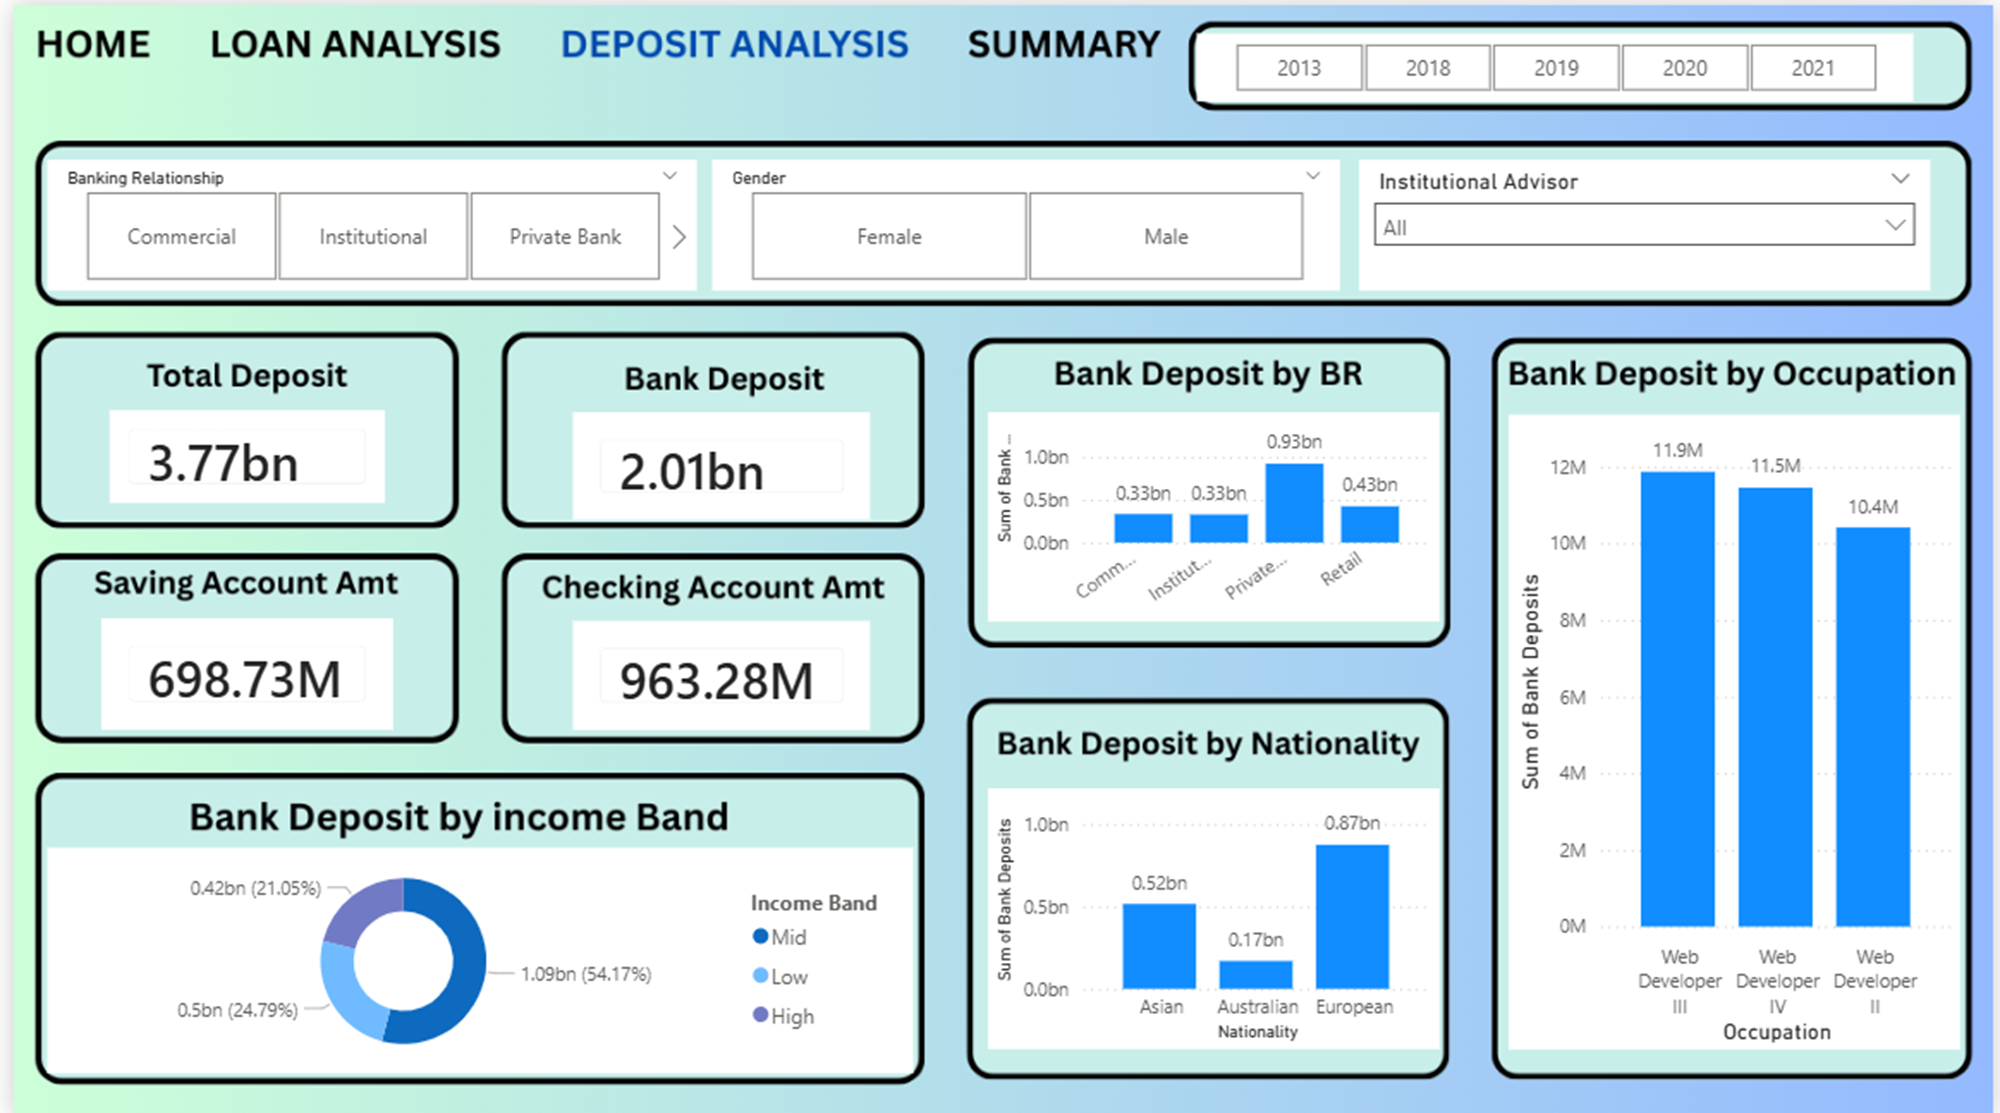

What the dashboard file says about the page in this screenshot:
{"tool":"powerbi","page":{"name":"Deposit Analysis","canvas":[1280,720],"ordinal":2},"visuals":[{"type":"slicer","fields":{"Values":["banking_case customers.year_of_joining2"]},"box":[764.5,17.9,463.6,43.9],"z":0},{"type":"actionButton","box":[0,0,100,39.6],"z":1000},{"type":"actionButton","box":[609.4,0,137.7,39.6],"z":3000},{"type":"cardVisual","fields":{"Data":["banking_case customers.Total_deposits"]},"box":[56.7,256.7,188.3,70],"z":4000},{"type":"cardVisual","fields":{"Data":["Sum(banking_case customers.Bank Deposits)"]},"box":[361.5,263.1,192.3,69.2],"z":5000},{"type":"cardVisual","fields":{"Data":["Sum(banking_case customers.Saving Accounts)"]},"box":[56.7,396.7,188.3,71.7],"z":6000},{"type":"cardVisual","fields":{"Data":["Sum(banking_case customers.Checking Accounts)"]},"box":[361.5,398.5,192.3,70.8],"z":7000},{"type":"donutChart","fields":{"Category":["banking_case customers.Income Band"],"Y":["Sum(banking_case customers.Bank Deposits)"]},"box":[21.5,544.6,560,146.2],"z":8000},{"type":"clusteredColumnChart","fields":{"Category":["banking_case customers.BRId","banking_case customers.Income Band"],"Y":["Sum(banking_case customers.Bank Deposits)"]},"box":[630,263.3,291.7,135],"z":9000},{"type":"clusteredColumnChart","fields":{"Category":["banking_case customers.Nationality","banking_case customers.BRId","banking_case customers.Income Band"],"Y":["Sum(banking_case customers.Bank Deposits)"]},"box":[630,506.7,291.7,168.3],"z":10000},{"type":"clusteredColumnChart","fields":{"Category":["banking_case customers.Occupation"],"Y":["Sum(banking_case customers.Bank Deposits)"]},"box":[966.2,264.6,292.3,410.8],"z":11000},{"type":"slicer","fields":{"Values":["banking_case customers.BRId"]},"box":[21.5,100,420,84.6],"z":12000},{"type":"slicer","fields":{"Values":["banking_case customers.GenderId"]},"box":[452.3,100,406.2,84.6],"z":13000},{"type":"slicer","fields":{"Values":["banking_case customers.IAId"]},"box":[870.8,100,369.2,84.6],"z":14000},{"type":"actionButton","box":[123.3,0,196.7,40],"z":14001}]}

Visuals, with their boxes in screenshot pixels (x1, y1, x2, y2), scaled from the page's 1280x720 canvas onto the 2000x1113 screenshot:
slicer - banking_case customers.year_of_joining2: x1=1195, y1=28, x2=1919, y2=96
actionButton: x1=0, y1=0, x2=156, y2=61
actionButton: x1=952, y1=0, x2=1167, y2=61
cardVisual - banking_case customers.Total_deposits: x1=89, y1=397, x2=383, y2=505
cardVisual - Sum(banking_case customers.Bank Deposits): x1=565, y1=407, x2=865, y2=514
cardVisual - Sum(banking_case customers.Saving Accounts): x1=89, y1=613, x2=383, y2=724
cardVisual - Sum(banking_case customers.Checking Accounts): x1=565, y1=616, x2=865, y2=725
donutChart - banking_case customers.Income Band x Sum(banking_case customers.Bank Deposits): x1=34, y1=842, x2=909, y2=1068
clusteredColumnChart - banking_case customers.BRId x banking_case customers.Income Band: x1=984, y1=407, x2=1440, y2=616
clusteredColumnChart - banking_case customers.Nationality x banking_case customers.BRId: x1=984, y1=783, x2=1440, y2=1043
clusteredColumnChart - banking_case customers.Occupation x Sum(banking_case customers.Bank Deposits): x1=1510, y1=409, x2=1966, y2=1044
slicer - banking_case customers.BRId: x1=34, y1=155, x2=690, y2=285
slicer - banking_case customers.GenderId: x1=707, y1=155, x2=1341, y2=285
slicer - banking_case customers.IAId: x1=1361, y1=155, x2=1938, y2=285
actionButton: x1=193, y1=0, x2=500, y2=62
